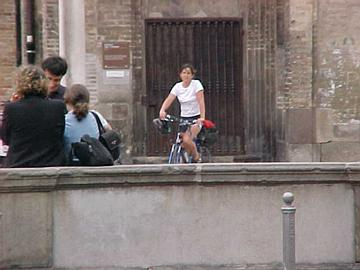person: (158, 63, 209, 163)
